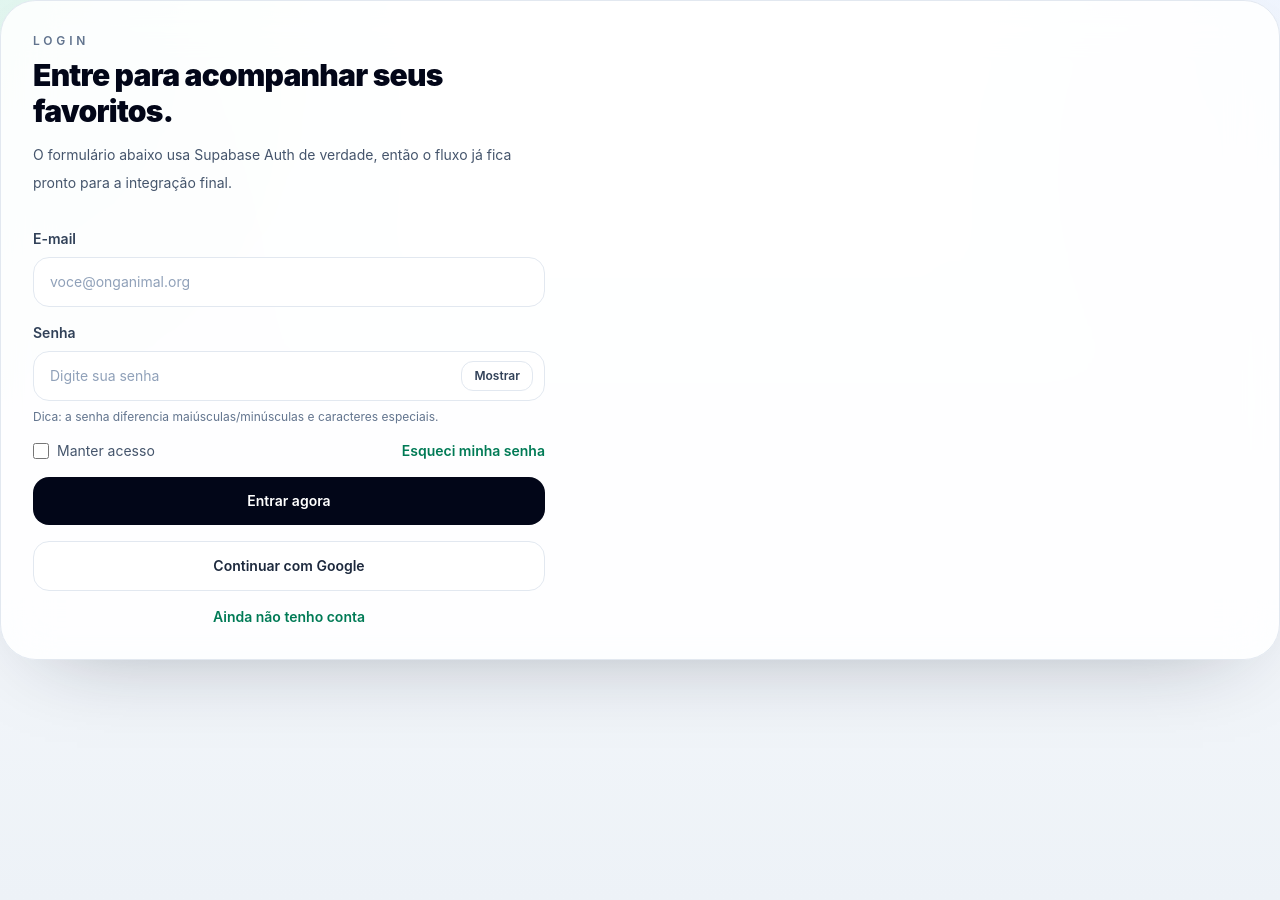
Test: LoginForm › shows a session warning when auth returns without session
Type "confirmed@example.com" into the field with placeholder "voce@onganimal.org" at point(289, 282), box [33,257,545,307]
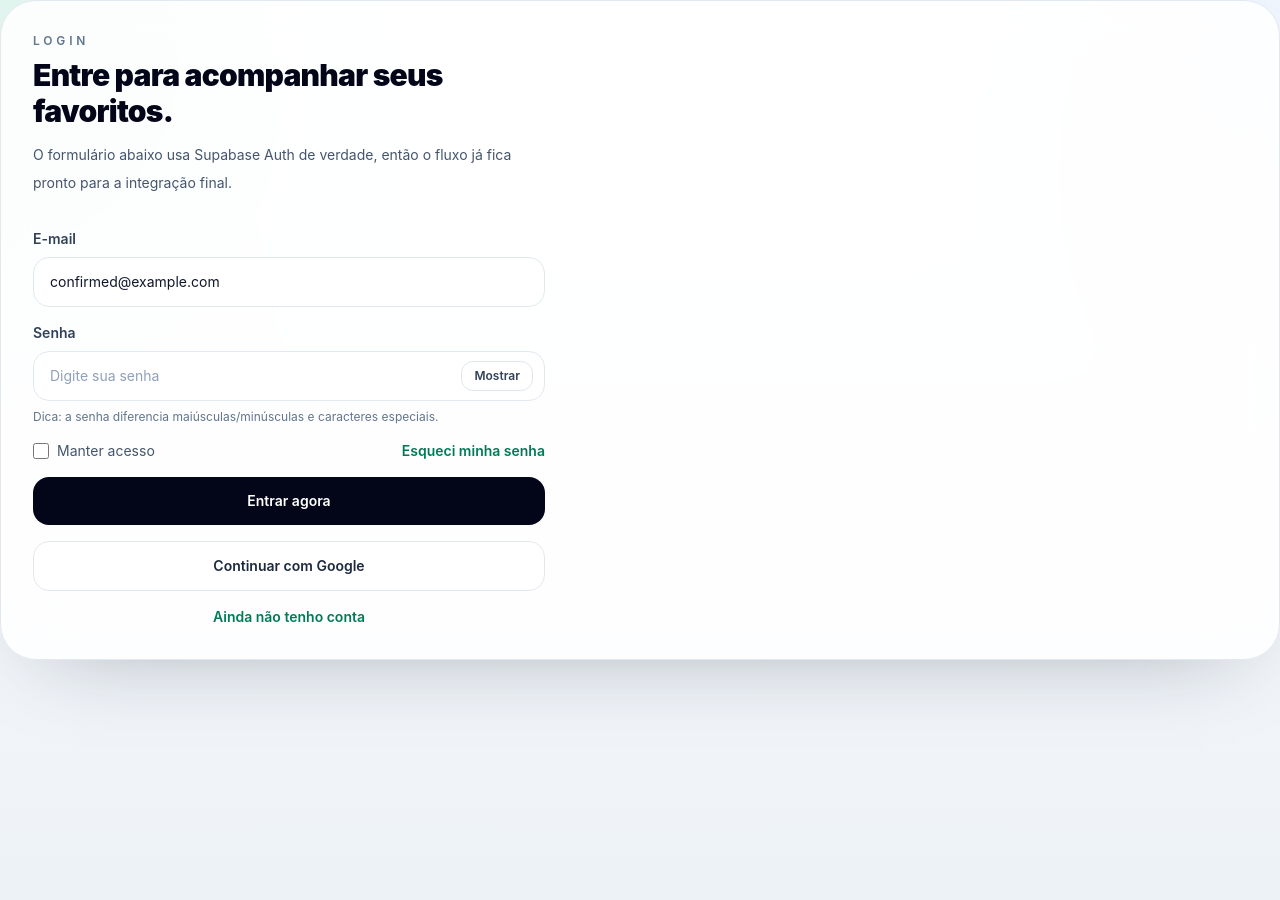
Type "secret" into the password field with placeholder "Digite sua senha" at point(289, 376), box [33,351,545,401]
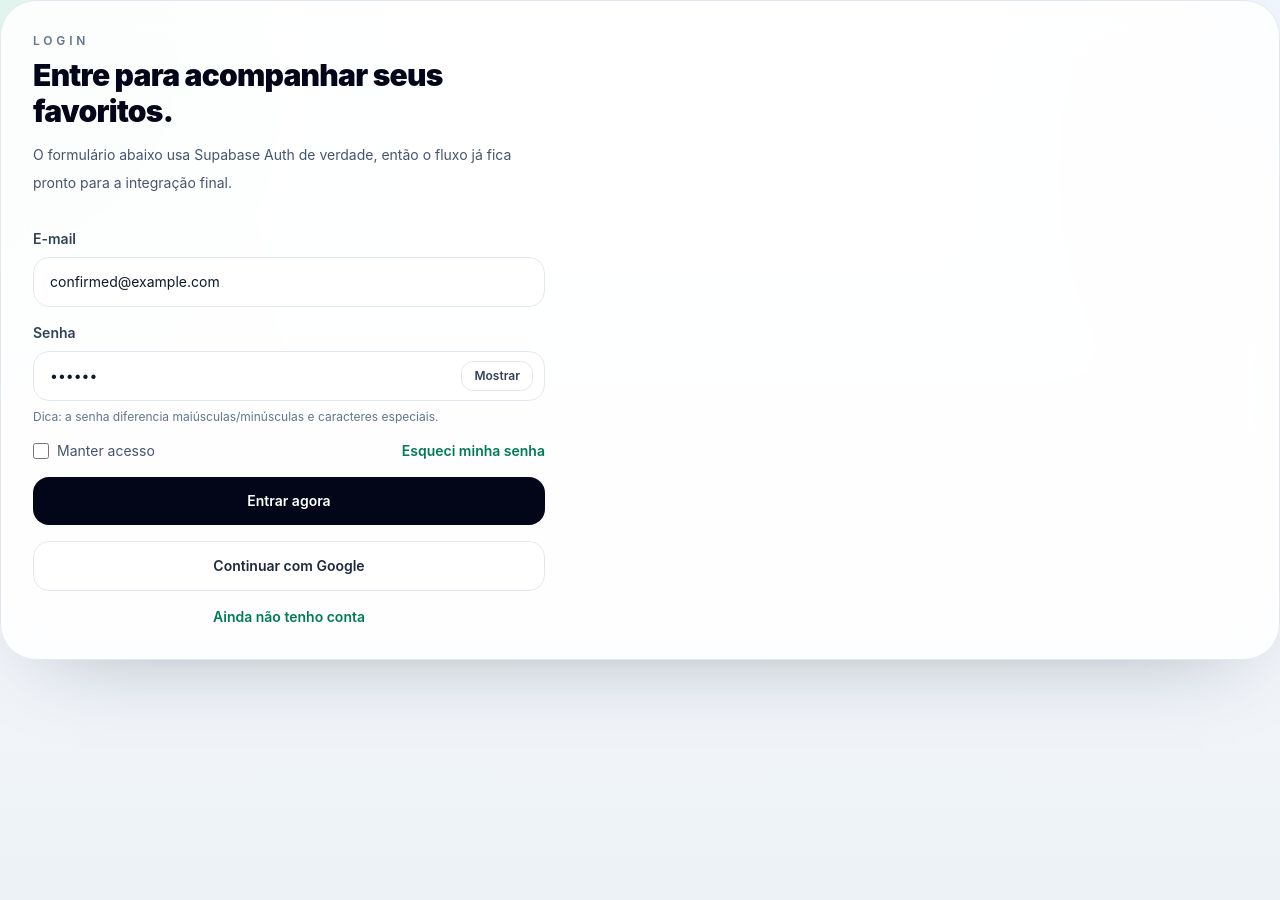
Submit the form from the button "Entrar agora", box [33,477,545,525]
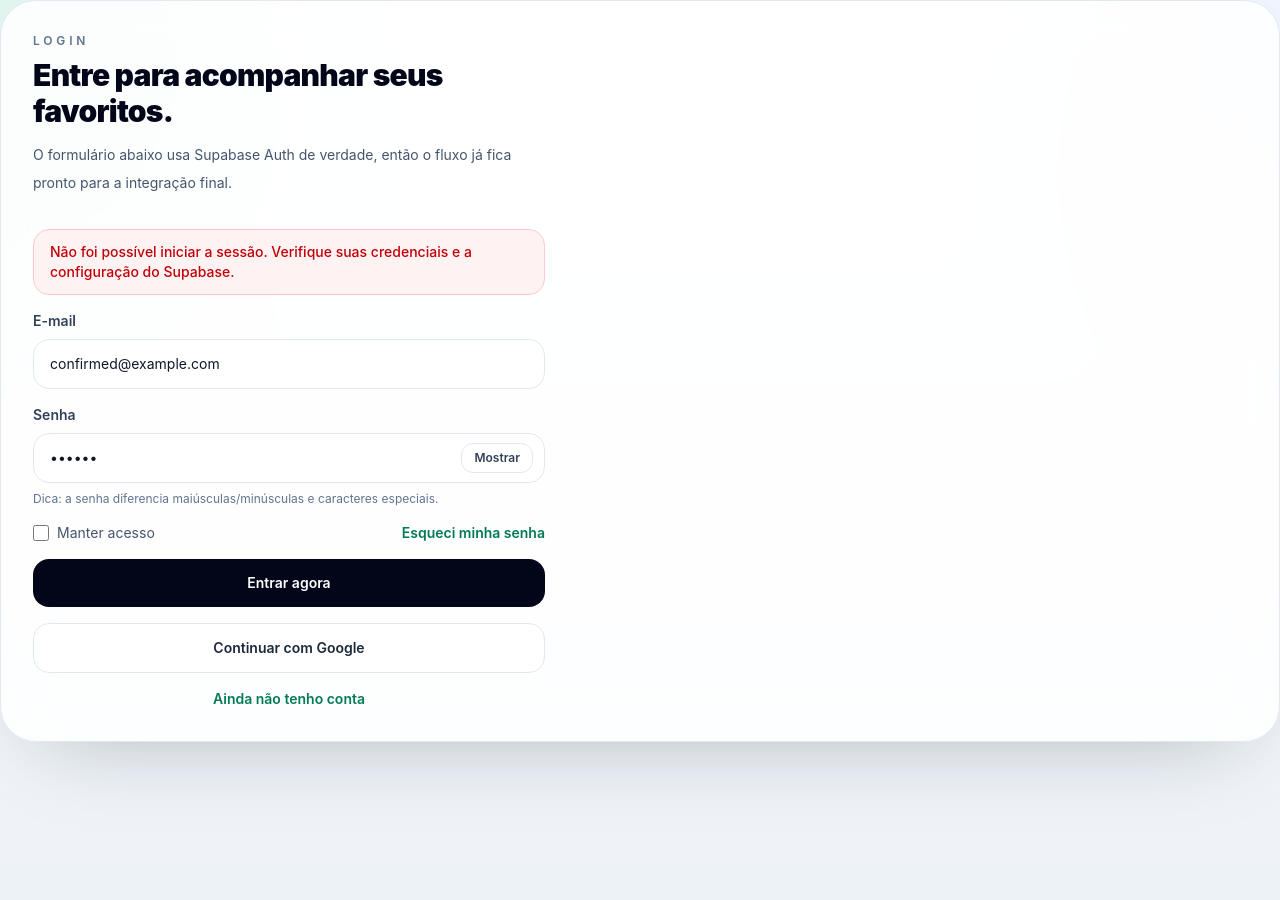
Expected: the text "Não foi possível iniciar a sessão. Verifique suas credenciais e a configuração do Supabase." is shown, [50,243,472,280]
